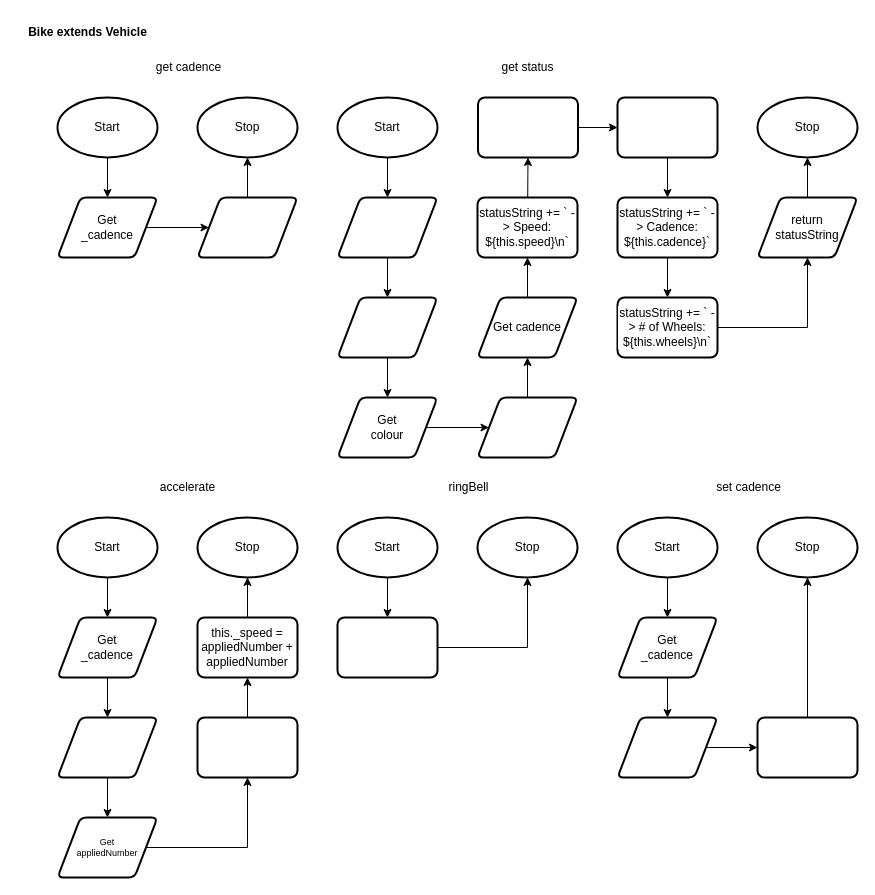
This 875x895 diagram has some shape labels left out. The shapes that lost their labels are listed below. From the top down, each one's centre as x and y in pixels, then its label:
(527,127): statusString += ` -> MaxSpeed: ${this.maxSpeed}\n`
(667,127): statusString += ` -> Color: ${this.colour}`
(247,227): return _cadence
(387,227): Get speed
(387,327): Get maxSpeed
(527,427): Get wheels
(387,647): console.log( "Ding ding!\n")
(107,747): Get _speed
(247,747): this._cadence = this._cadence + appliedNumber
(667,747): Get newCadence
(807,747): this._cadence = newCadence
